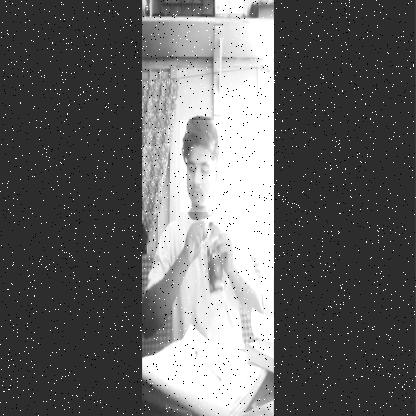Distracted: (180, 120, 224, 212)
